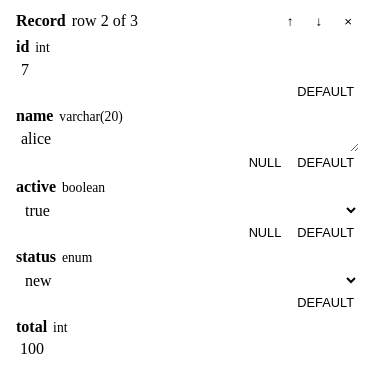
RecordPanel › shows why an edit was refused and keeps the typed text
Replace the text in the field labelled "id int" with "abc": (188, 70) left=16, top=58, right=360, bottom=82
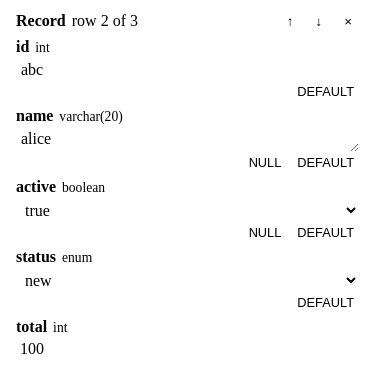
Press Enter in the field labelled "id int", box left=16, top=58, right=360, bottom=82
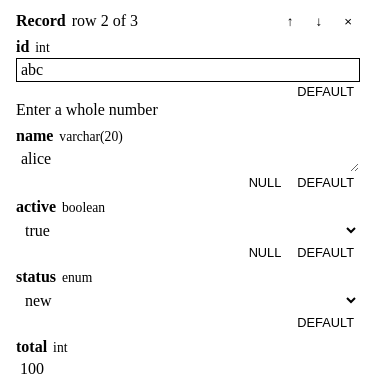
Expected: the message with test id "record-error" reads "Enter a whole number", left=16, top=101, right=158, bottom=118
